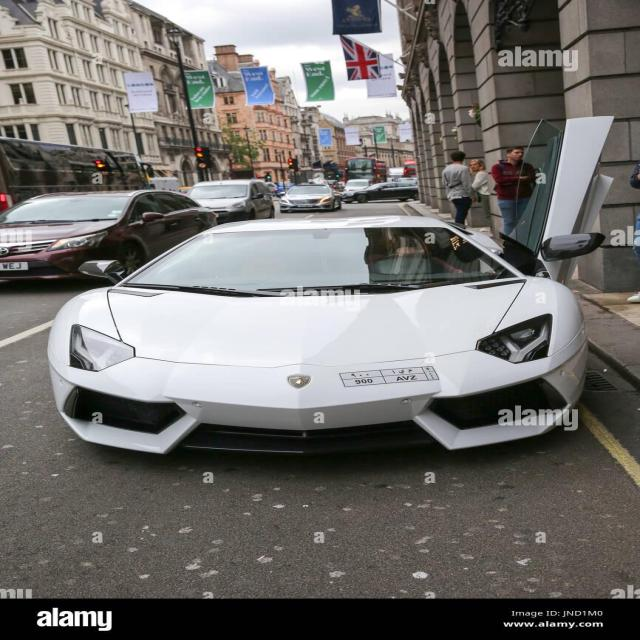license_plate: (0, 258, 27, 273), (289, 198, 316, 208)
